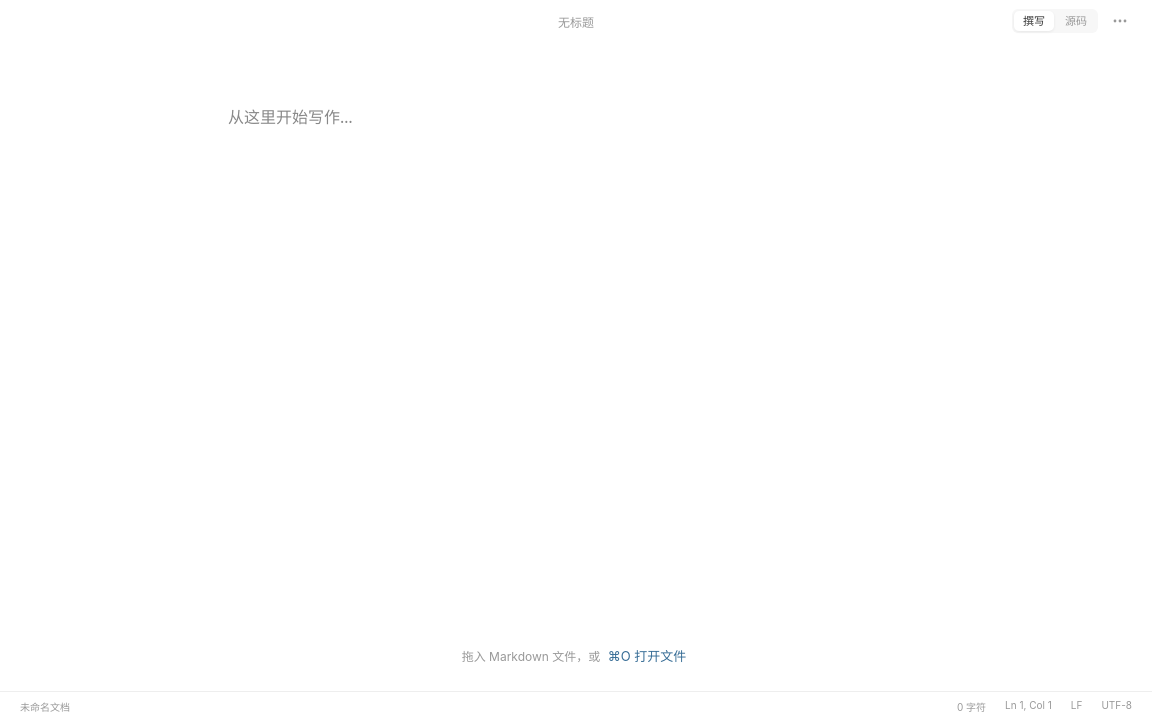
Test: shows an empty history and reports missing recent files without losing the current document
Expected: the field named "文档编辑器" is shown, 228,106 -> 353,128
Click the button named "文档操作" at (1120, 21), box 1106,7 -> 1134,35
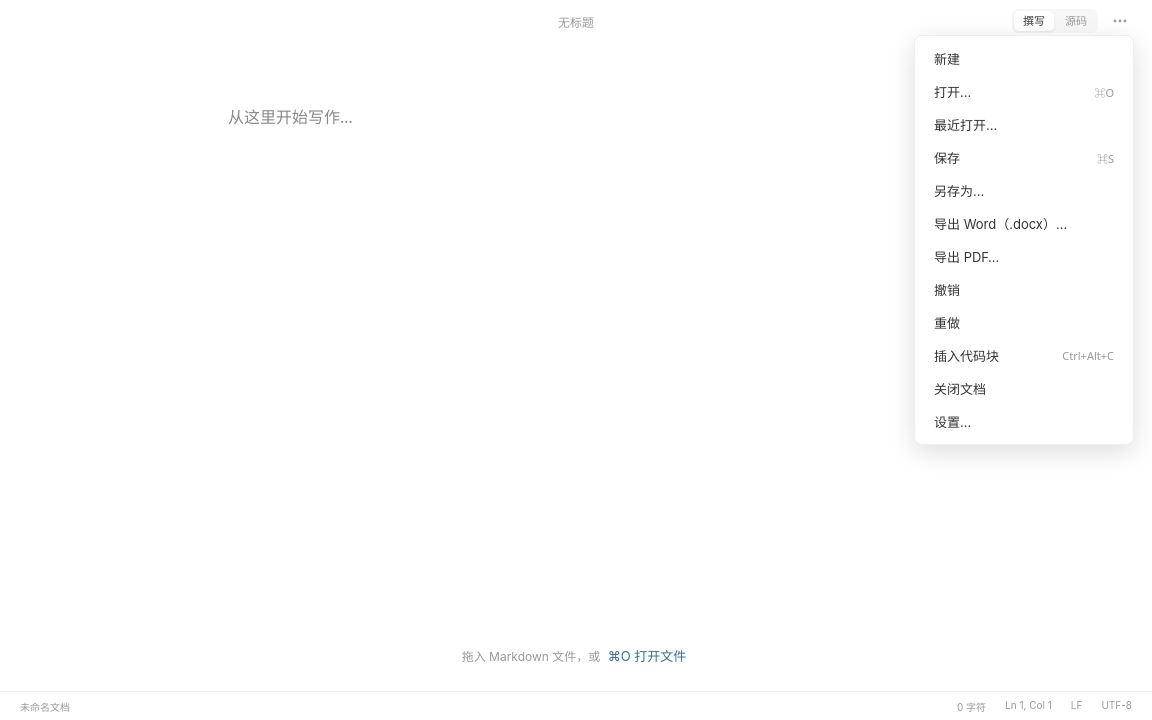
Click the button "最近打开…" at (1024, 124), box 921,108 -> 1127,141
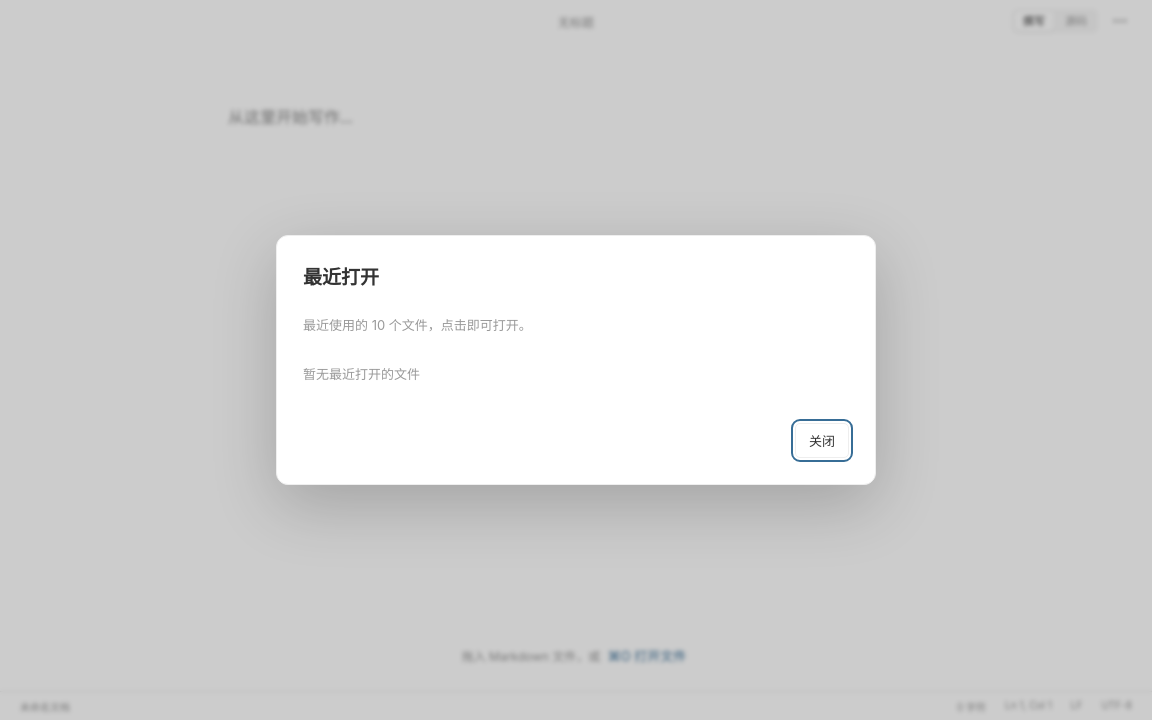
Now the text "暂无最近打开的文件" is shown, box 303,366 -> 420,382
Click the button "关闭" at (822, 440), box 795,423 -> 849,458
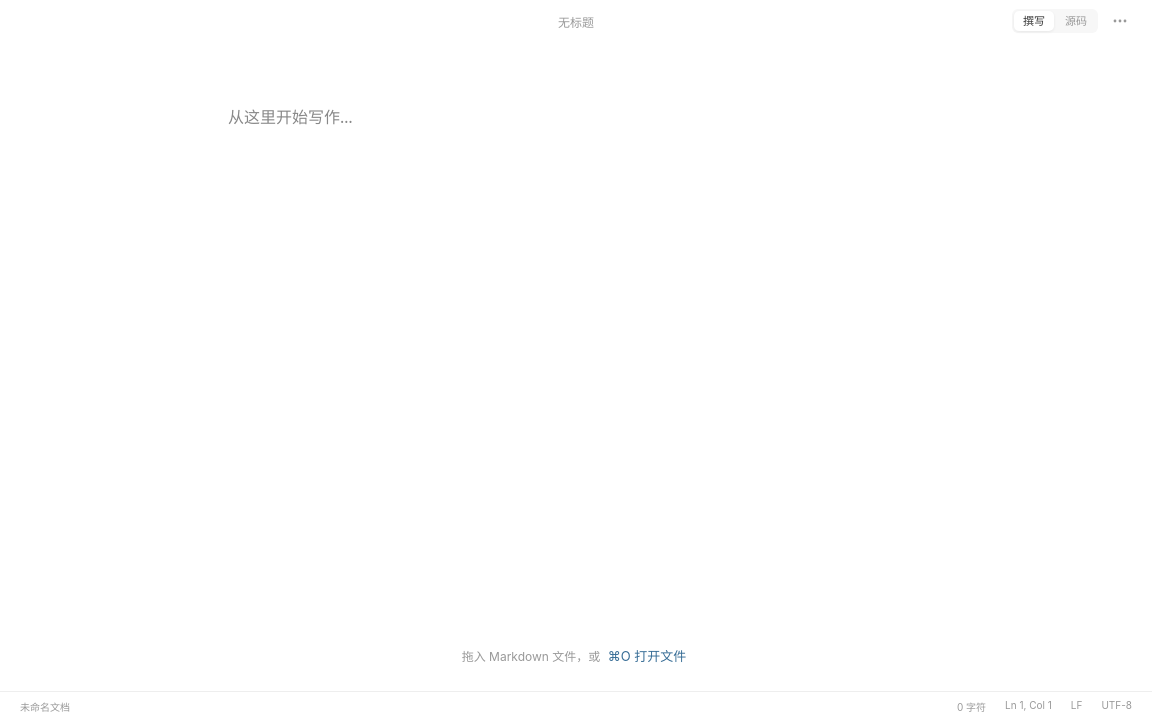
Click the button named "文档操作" at (1120, 21), box 1106,7 -> 1134,35
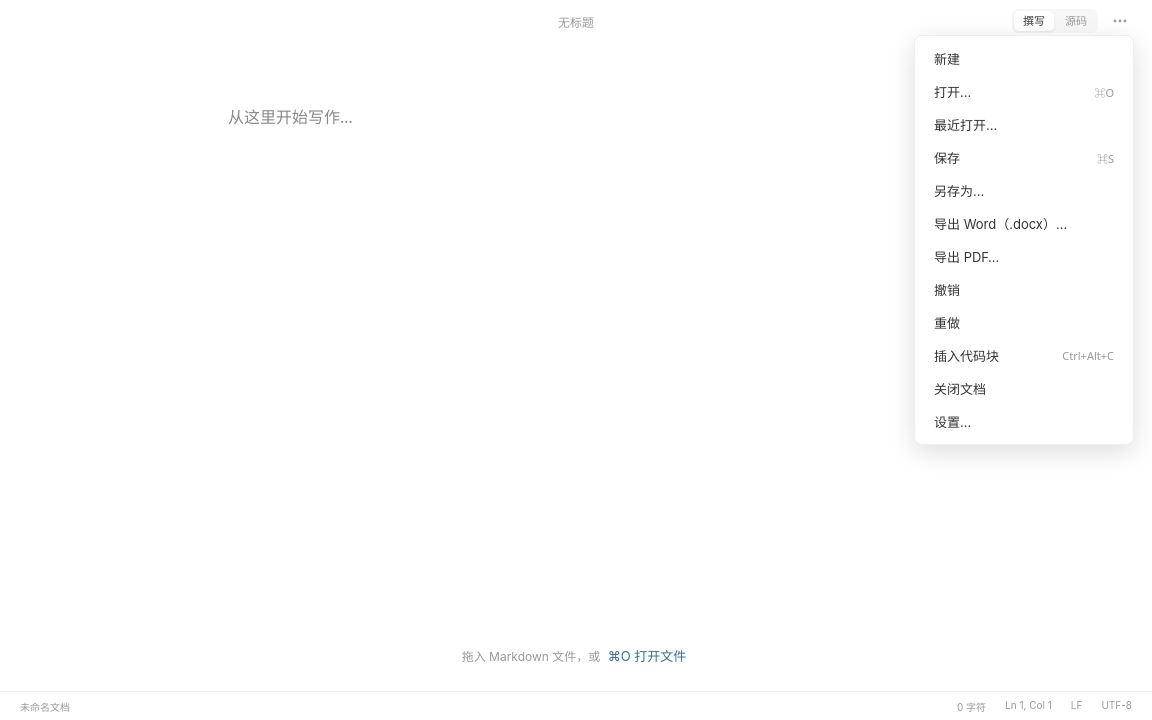
Click the button "最近打开…" at (1024, 124), box 921,108 -> 1127,141
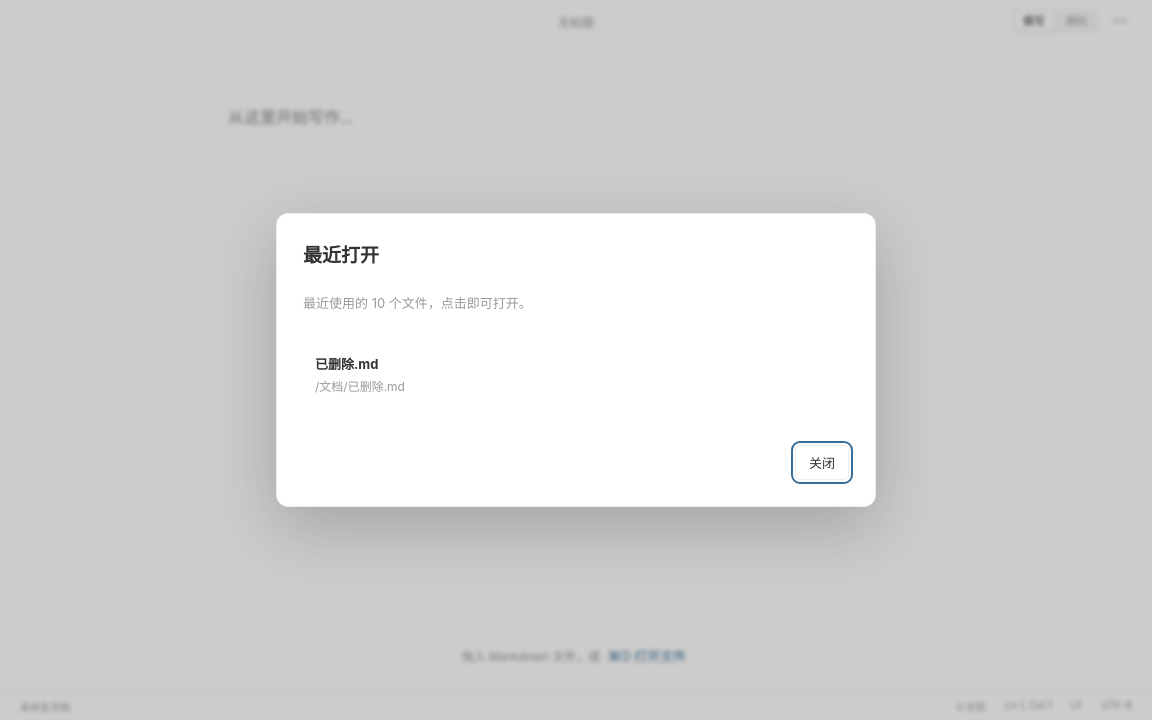
Click the button with aria-label "打开 /文档/已删除.md" at (347, 364), box 303,344 -> 849,404
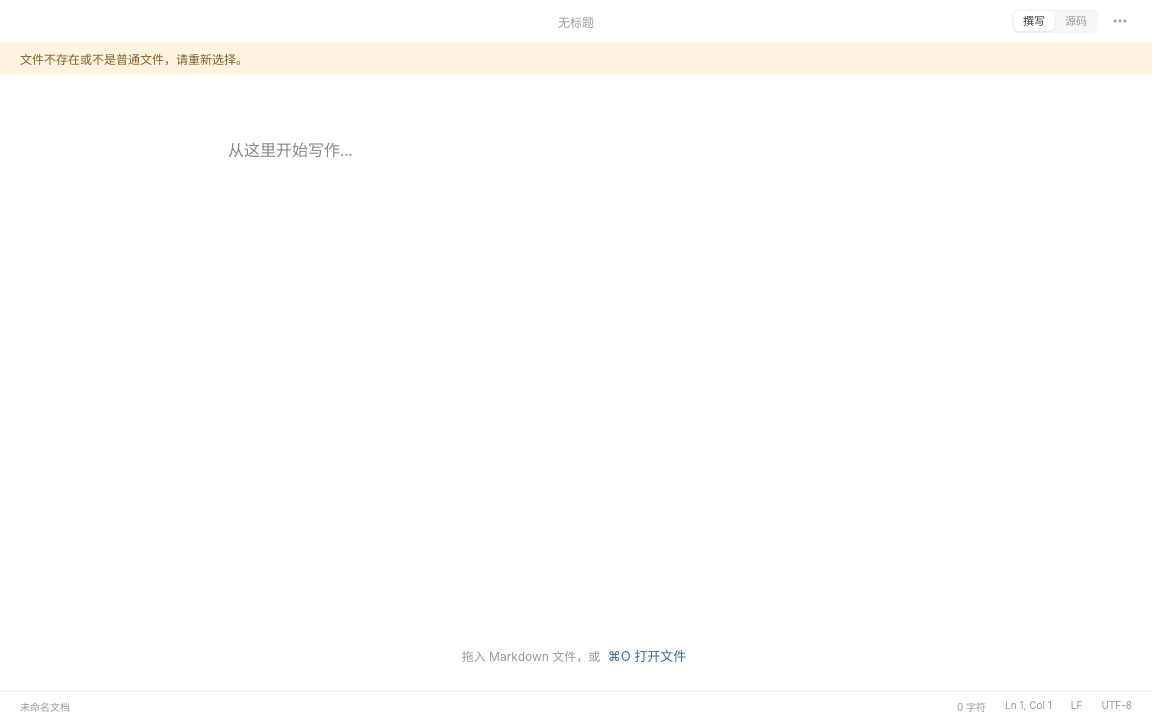
Expected: the field named "文档编辑器" is shown, 228,139 -> 353,161
Now the message shows "文件不存在", box 20,52 -> 248,67
